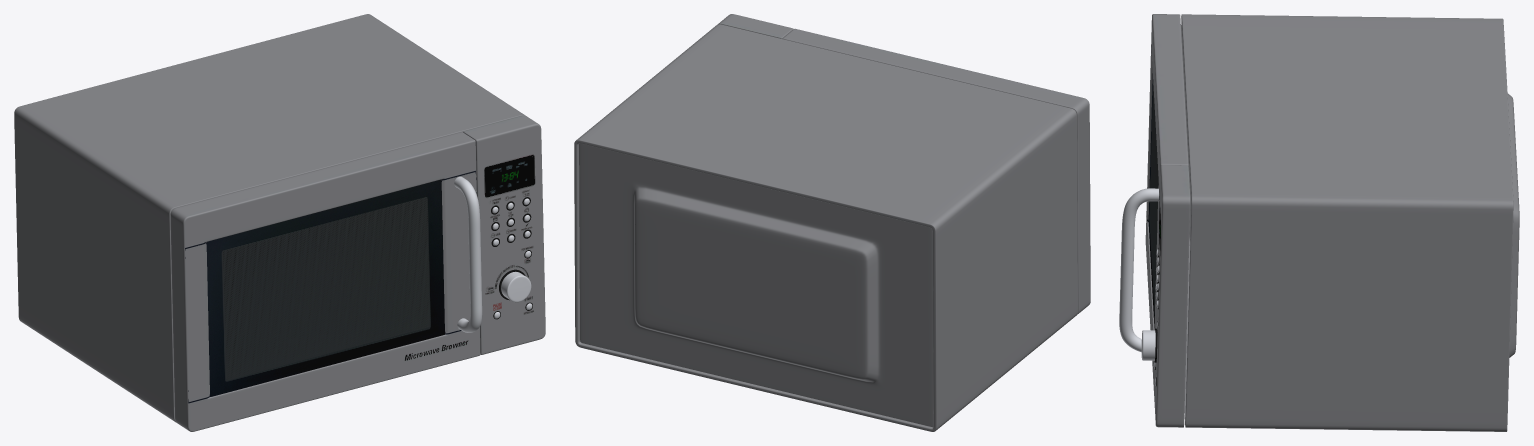
Rendered from microondas.fbx.
The picture shows the model from 3 angles, left to right: view 1: azimuth 30°, elevation 25°; view 2: azimuth 150°, elevation 25°; view 3: azimuth 270°, elevation 25°; orthographic projection. The views are drawn at different scales.
Parts seen in each view (by area): view 1: 11642_Microwave_v1_L3; view 2: 11642_Microwave_v1_L3; view 3: 11642_Microwave_v1_L3.
Part boxes in pixels (bbox=[...]): 11642_Microwave_v1_L3: bbox=[14, 14, 545, 431]; 11642_Microwave_v1_L3: bbox=[574, 14, 1090, 431]; 11642_Microwave_v1_L3: bbox=[1119, 14, 1519, 431].
Size of the model in its own units: 5762 by 3352 by 5009.
